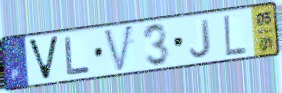3: (141, 21, 171, 68)
J: (188, 17, 213, 60)
L: (63, 35, 92, 78), (222, 13, 249, 57)
V: (26, 34, 62, 83), (102, 22, 135, 74)
